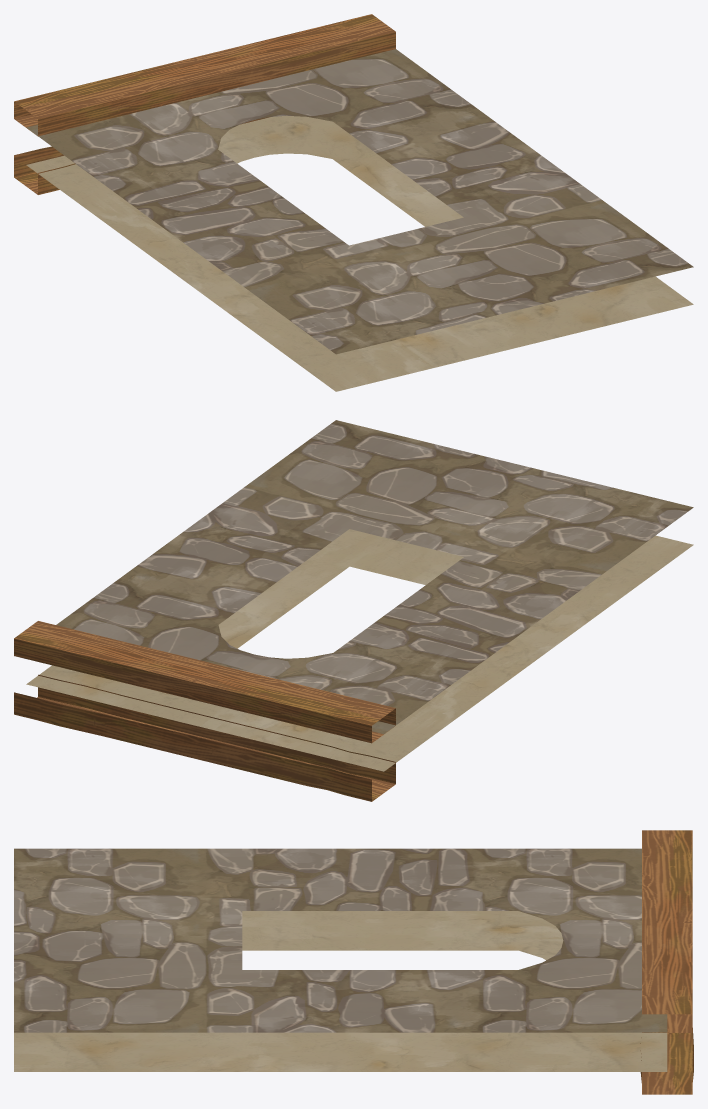
The model's file is Wall_UnevenBrick_Window_Thin_Round.fbx.
3 renders of one model, top to bottom at view 1: azimuth 30°, elevation 25°; view 2: azimuth 150°, elevation 25°; view 3: azimuth 270°, elevation 25°, orthographic. The views are drawn at different scales.
Parts seen in each view (by area): view 1: Wall_UnevenBrick_Window_Thin_Round; view 2: Wall_UnevenBrick_Window_Thin_Round; view 3: Wall_UnevenBrick_Window_Thin_Round.
Part boxes in pixels (<box>): Wall_UnevenBrick_Window_Thin_Round: <box>14,14,693,391</box>; Wall_UnevenBrick_Window_Thin_Round: <box>14,420,693,801</box>; Wall_UnevenBrick_Window_Thin_Round: <box>14,830,693,1094</box>.
Size of the model in its own units: 2 by 0.4065 by 3.12.
